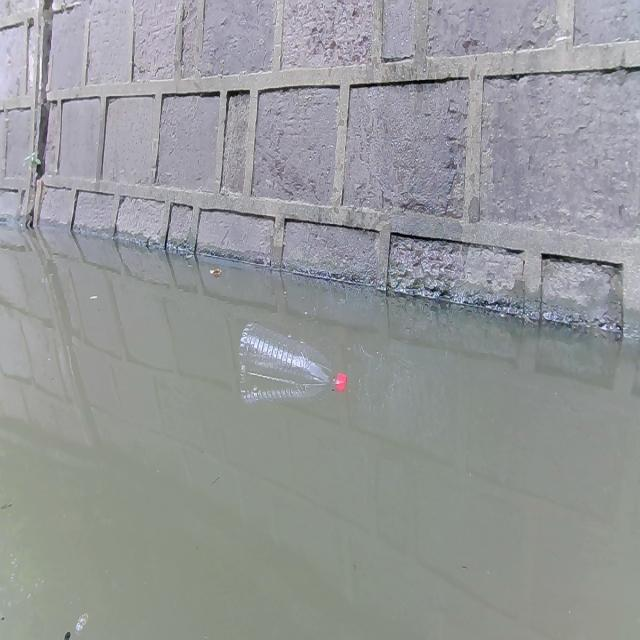bottle: (237, 316, 349, 394)
